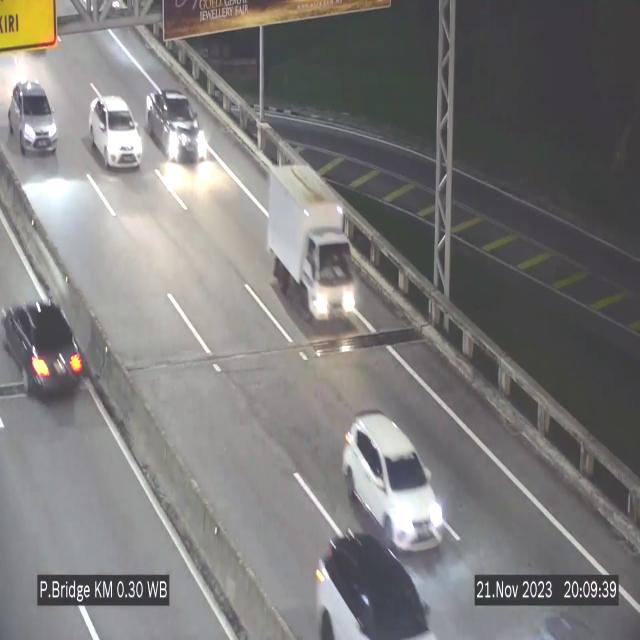Car: (342, 414, 444, 552), (312, 530, 436, 640), (0, 272, 90, 415), (148, 83, 204, 168), (89, 96, 143, 169), (9, 81, 58, 155)
Truck: (264, 161, 358, 328)
